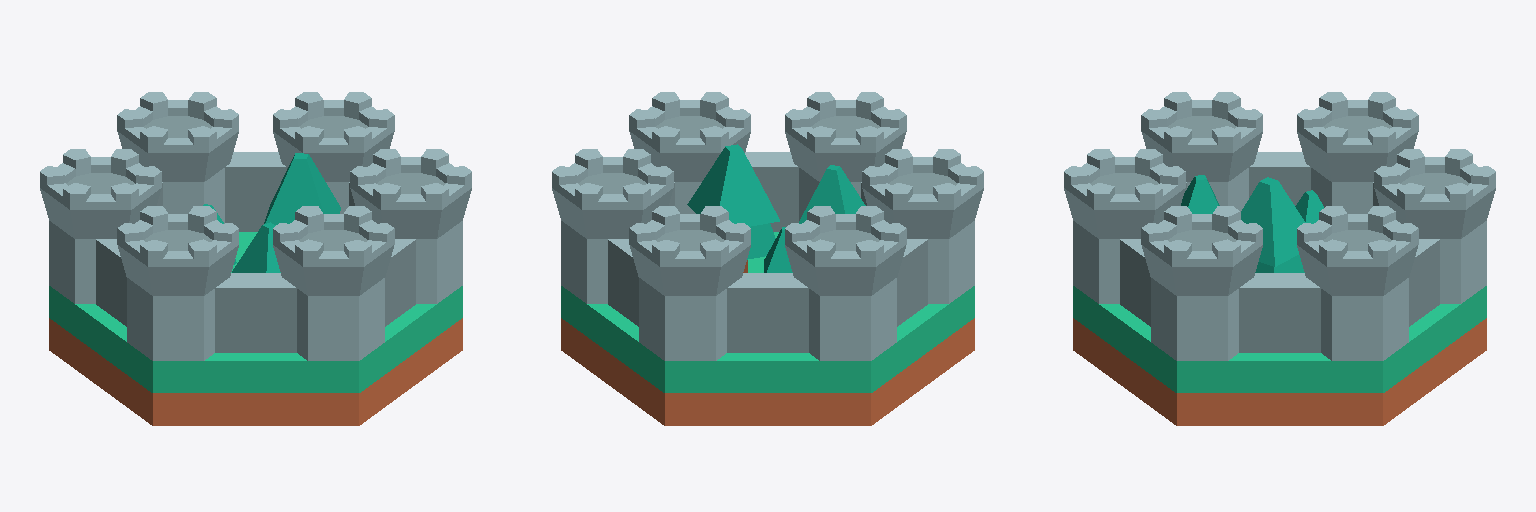
Rendered from building_castle.obj.
3 renders of one model, left to right at view 1: azimuth 30°, elevation 25°; view 2: azimuth 150°, elevation 25°; view 3: azimuth 270°, elevation 25°, orthographic.
Parts seen in each view (by area): view 1: tower, building_castle, wall, tree; view 2: tower, building_castle, wall, tree; view 3: tower, building_castle, wall, tree.
Boxes of the visible parts, x1,y1,x2,y2 form: tower: [40, 92, 471, 360]; building_castle: [49, 232, 462, 425]; wall: [96, 152, 415, 352]; tree: [203, 153, 340, 272]; tower: [552, 92, 983, 360]; building_castle: [561, 232, 974, 425]; wall: [608, 152, 927, 352]; tree: [687, 144, 865, 272]; tower: [1064, 92, 1495, 360]; building_castle: [1073, 286, 1486, 425]; wall: [1120, 152, 1439, 352]; tree: [1181, 175, 1323, 272].
Bounding box in the file's own units: 1.04 × 0.58 × 1.21.